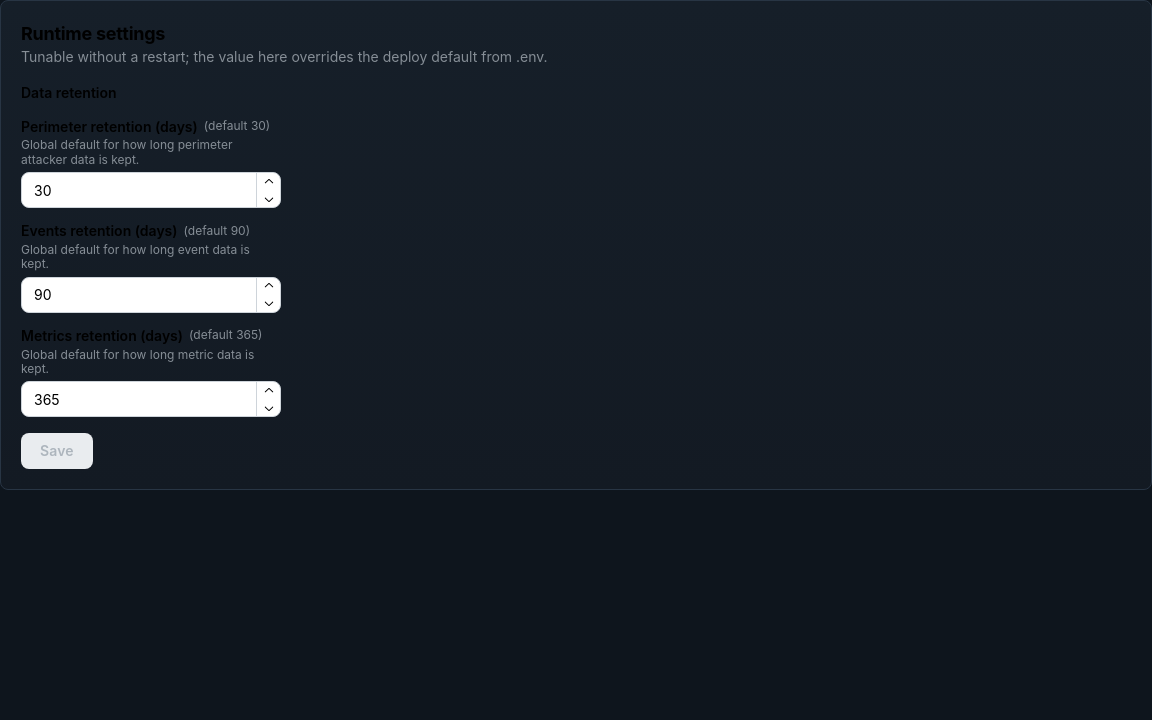
Test: RuntimeSettingsSection — retention group › shows the impacted-tenants list when the PUT returns retention_impacts
Replace the text in the field with test id "rs-metrics_retention_days" with "14" at [151, 399], box [21,381,281,417]
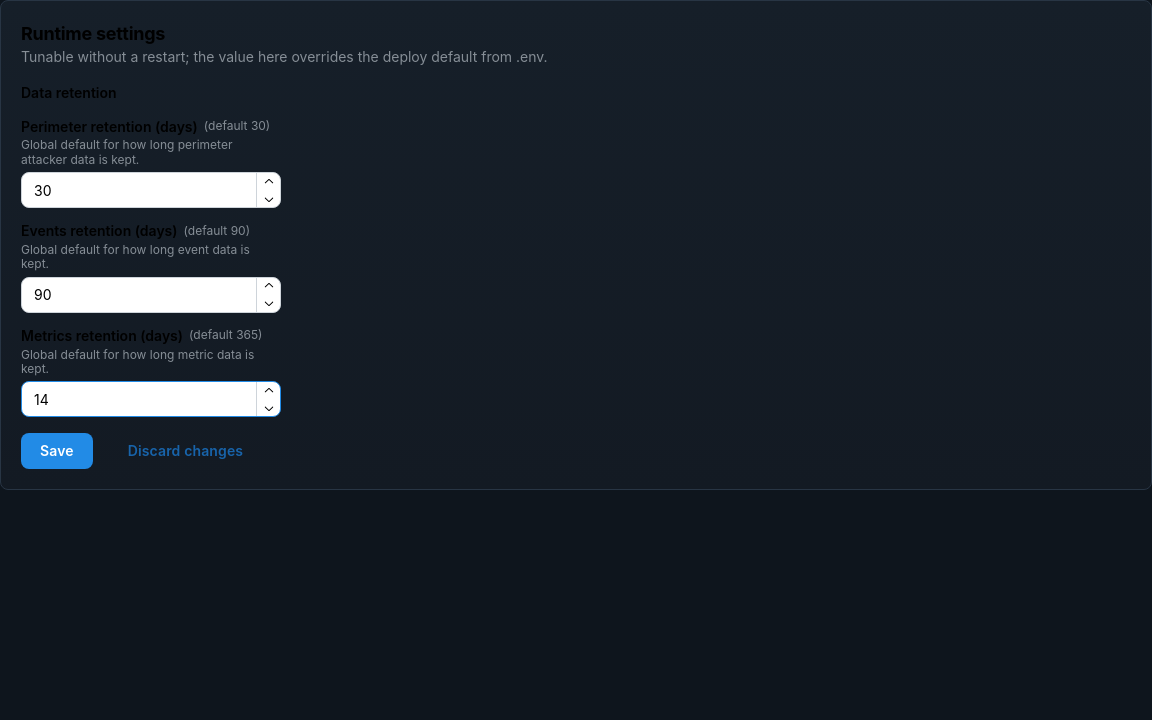
Click the button with test id "runtime-settings-save" at [57, 451], box [21,433,93,469]
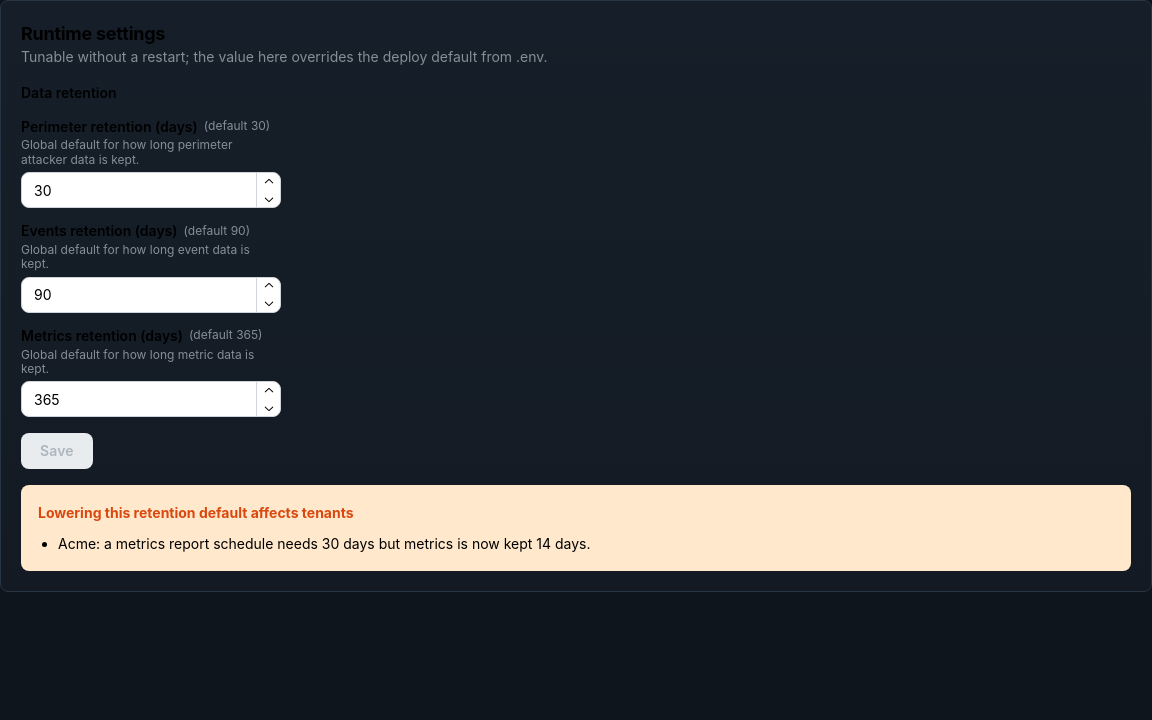
Expected: the message with test id "runtime-settings-impacts" is shown, [21,485,1131,571]
Expected: the text "Acme: a metrics report schedule needs 30 days but metrics is now kept 14 days" is shown, [58,535,590,552]
